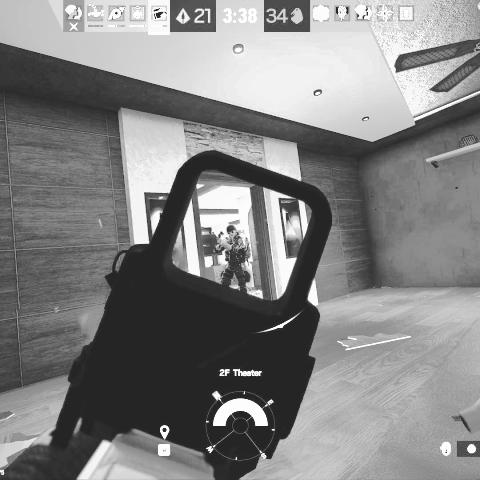Character: (214, 222, 252, 296)
Head: (225, 224, 239, 238)
